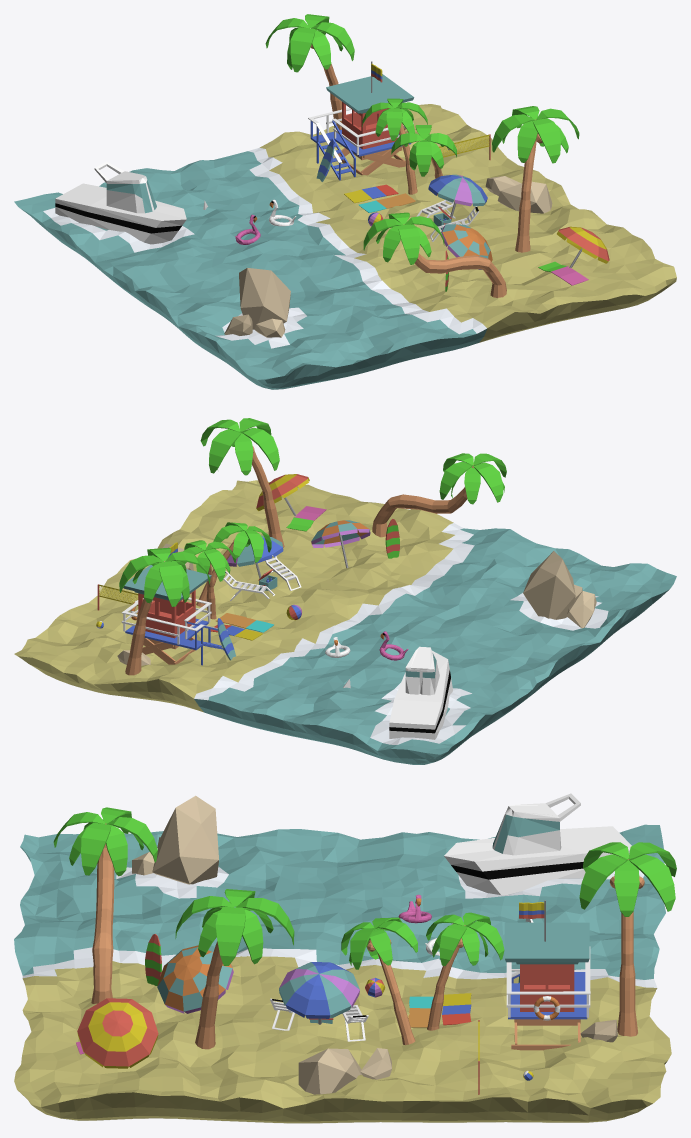
The model's file is low_poly_beach.fbx.
The picture shows the model from 3 angles, top to bottom: view 1: azimuth 30°, elevation 25°; view 2: azimuth 150°, elevation 25°; view 3: azimuth 270°, elevation 25°; orthographic projection. The views are drawn at different scales.
Parts seen in each view (by area): view 1: LightBlue-material.003, Sand-material, W2-material, R1-material, White-material.001, Green-material.004, Green-material.005, Green-material.006, LightBlue-material.004, Green-material, Brown-material.004, Green-material.002 (+11 smaller); view 2: LightBlue-material.003, Sand-material, W2-material, White-material.001, R1-material, Green-material.005, Green-material.004, Green-material.006, Brown-material.004, Red-material.004, Green-material, Green-material.002 (+6 smaller); view 3: Sand-material, LightBlue-material.003, R1-material, White-material.001, W2-material, Green-material.004, Green-material.005, Green-material.006, LightBlue-material.004, Red-material.003, Brown-material.004, Green-material.002 (+17 smaller).
Boxes of the visible parts, <box> form: LightBlue-material.003: <box>14,151,487,389</box>; Sand-material: <box>260,104,676,342</box>; W2-material: <box>43,147,486,348</box>; R1-material: <box>224,176,552,337</box>; White-material.001: <box>55,161,186,244</box>; Green-material.004: <box>492,106,579,163</box>; Green-material.005: <box>265,14,354,72</box>; Green-material.006: <box>363,212,444,264</box>; LightBlue-material.004: <box>326,74,414,113</box>; Green-material: <box>391,125,456,176</box>; Brown-material.004: <box>403,224,506,297</box>; Green-material.002: <box>362,98,427,140</box>; LightBlue-material.003: <box>194,528,676,764</box>; Sand-material: <box>14,480,454,712</box>; W2-material: <box>194,523,608,744</box>; White-material.001: <box>389,646,452,739</box>; R1-material: <box>117,543,596,665</box>; Green-material.005: <box>119,547,210,606</box>; Green-material.004: <box>200,418,279,475</box>; Green-material.006: <box>439,453,506,504</box>; Brown-material.004: <box>372,464,473,537</box>; Red-material.004: <box>138,590,195,638</box>; Green-material: <box>213,522,271,562</box>; Green-material.002: <box>181,540,236,581</box>; Sand-material: <box>14,956,671,1123</box>; LightBlue-material.003: <box>14,824,665,979</box>; R1-material: <box>132,795,617,1094</box>; White-material.001: <box>444,793,631,895</box>; W2-material: <box>22,848,657,987</box>; Green-material.004: <box>175,889,294,965</box>; Green-material.005: <box>579,842,676,916</box>; Green-material.006: <box>53,807,157,876</box>; LightBlue-material.004: <box>504,922,589,964</box>; Red-material.003: <box>77,998,158,1066</box>; Brown-material.004: <box>91,823,114,1003</box>; Green-material.002: <box>426,912,504,965</box>.
Bounding box in the file's own units: 12481 × 4274 × 12654.
